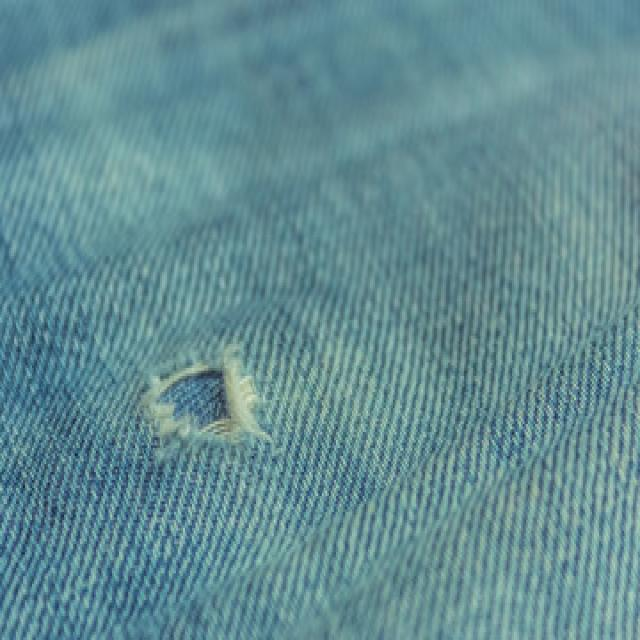Hole: (142, 346, 270, 444)
